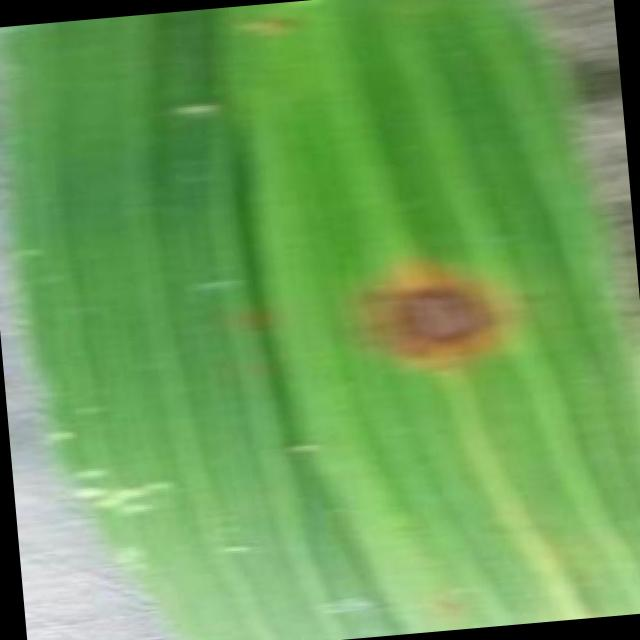Rice_Brownspot: (338, 250, 517, 386)
